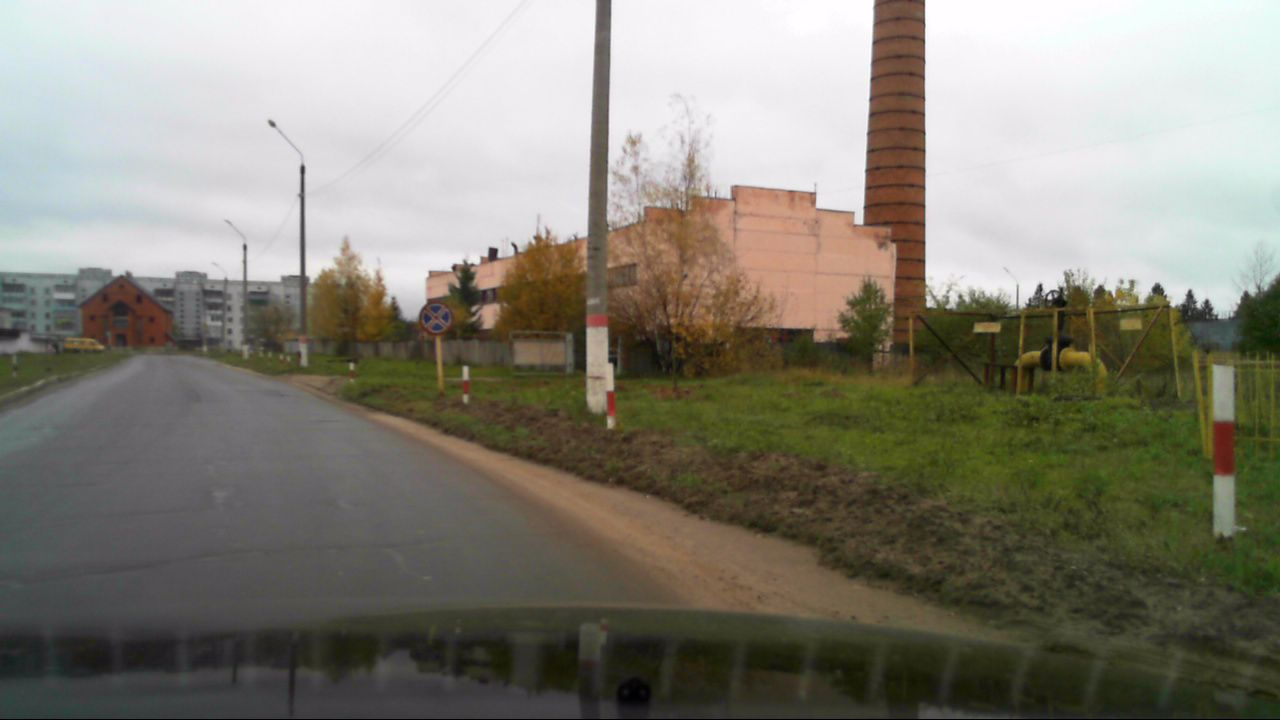No Parking: (419, 301, 453, 333)
